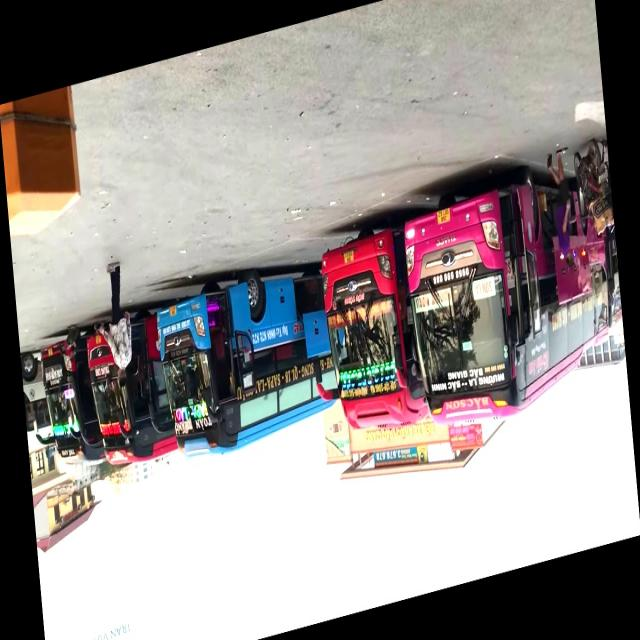bien_vang: (436, 208, 453, 226), (342, 250, 357, 264)
